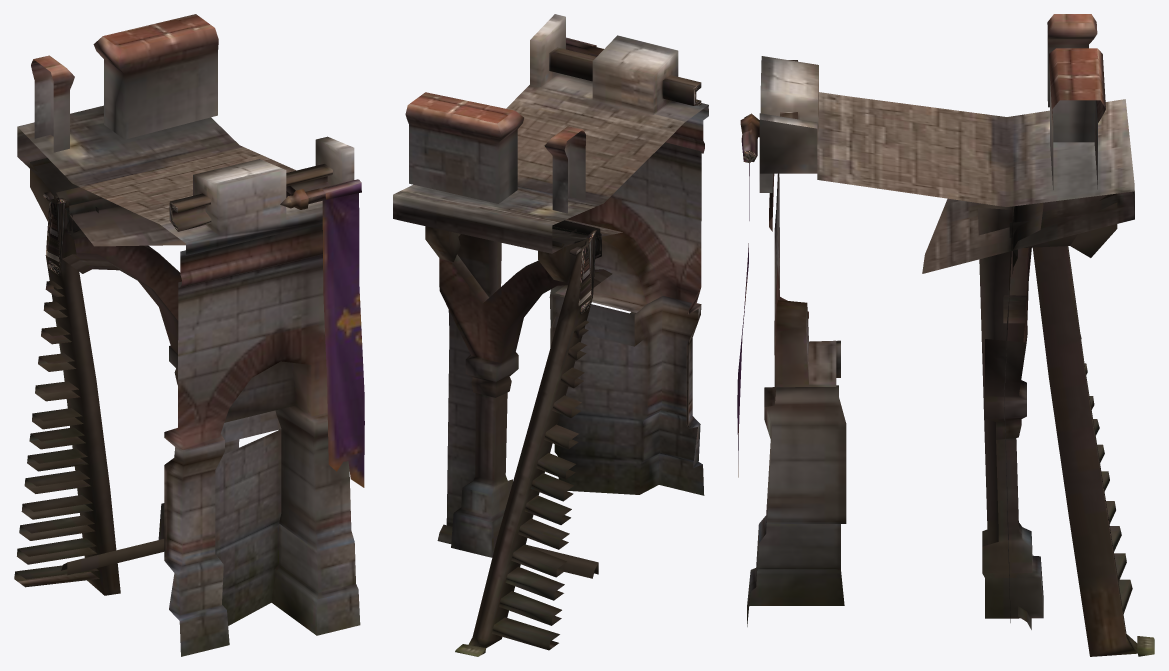
File: WallRunRight_26.fbx
3 renders of one model, left to right at view 1: azimuth 30°, elevation 25°; view 2: azimuth 150°, elevation 25°; view 3: azimuth 270°, elevation 25°, orthographic. The views are drawn at different scales.
Visible parts, largest first — view 1: Imported wall section.087; view 2: Imported wall section.087; view 3: Imported wall section.087.
Boxes of the visible parts, x1,y1,x2,y2 form: Imported wall section.087: [14, 14, 364, 656]; Imported wall section.087: [393, 14, 708, 656]; Imported wall section.087: [737, 14, 1154, 656].
Bounding box in the file's own units: 200 × 639 × 402.
Materials: 1 (1 with a texture image).
